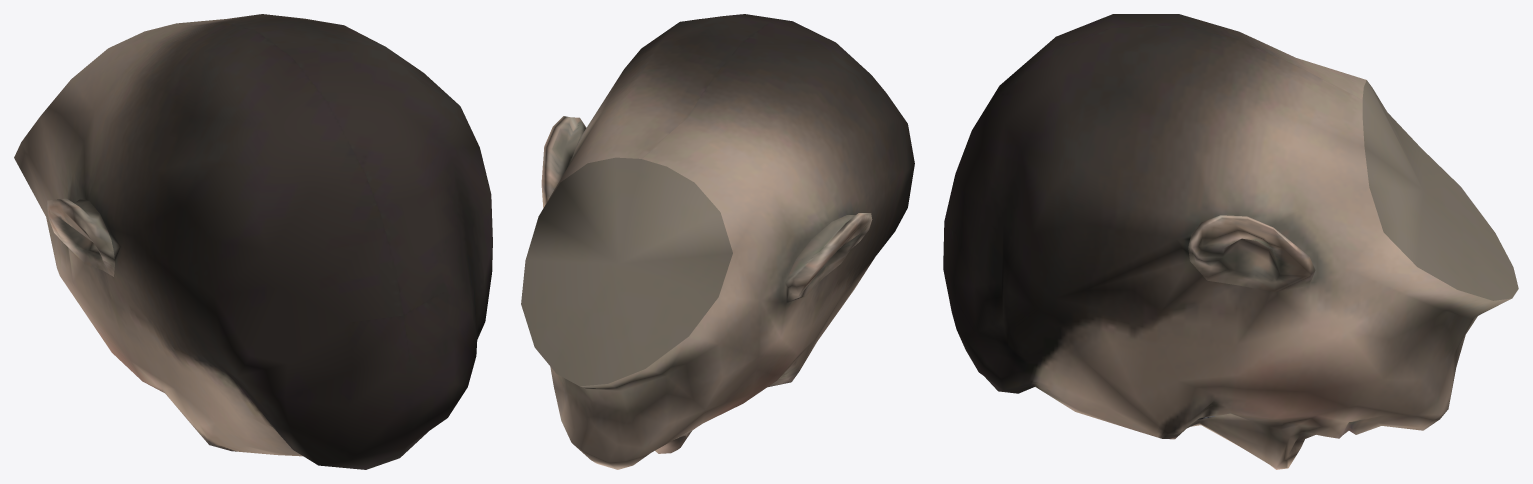
File: dest_nt_nuked_male_01_head_LOD1.obj
3 renders of one model, left to right at view 1: azimuth 30°, elevation 25°; view 2: azimuth 150°, elevation 25°; view 3: azimuth 270°, elevation 25°, orthographic. The views are drawn at different scales.
Visible parts, largest first — view 1: mtl_nt_2020_manne_male01_head1; view 2: mtl_nt_2020_manne_male01_head1; view 3: mtl_nt_2020_manne_male01_head1.
Boxes of the visible parts, box(x1,y1,x2,y2) form: mtl_nt_2020_manne_male01_head1: box(14, 14, 492, 469); mtl_nt_2020_manne_male01_head1: box(521, 14, 914, 469); mtl_nt_2020_manne_male01_head1: box(943, 14, 1518, 469).
Size of the model in its own units: 19.22 by 23.73 by 29.02.
